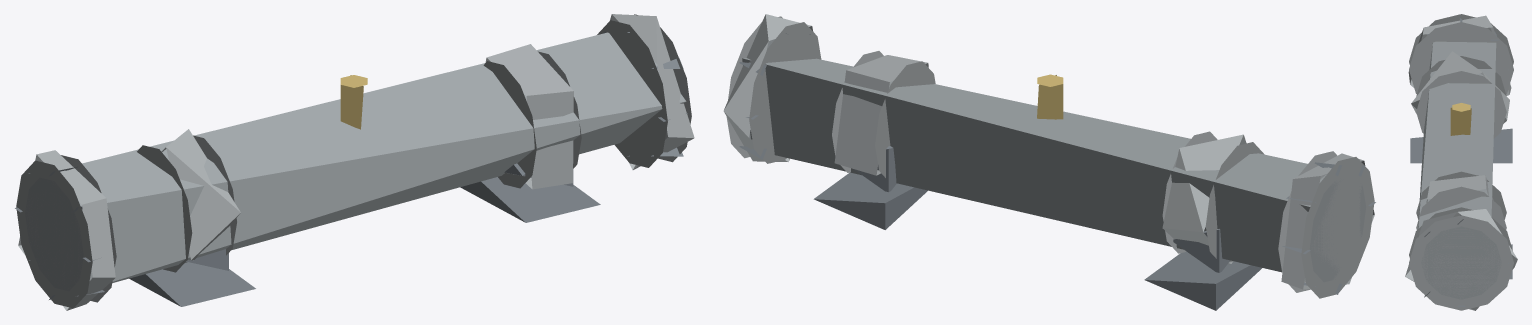
The picture shows the model from 3 angles, left to right: view 1: azimuth 30°, elevation 25°; view 2: azimuth 150°, elevation 25°; view 3: azimuth 270°, elevation 25°; orthographic projection. The views are drawn at different scales.
Visible parts, largest first — view 1: sea_pipeline.001; view 2: sea_pipeline.001; view 3: sea_pipeline.001.
Part boxes in pixels (x1,y1,x2,y2): sea_pipeline.001: (15, 14, 694, 310); sea_pipeline.001: (723, 14, 1375, 310); sea_pipeline.001: (1405, 14, 1517, 310).
Size of the model in its own units: 4.04 by 1.03 by 0.9479.
